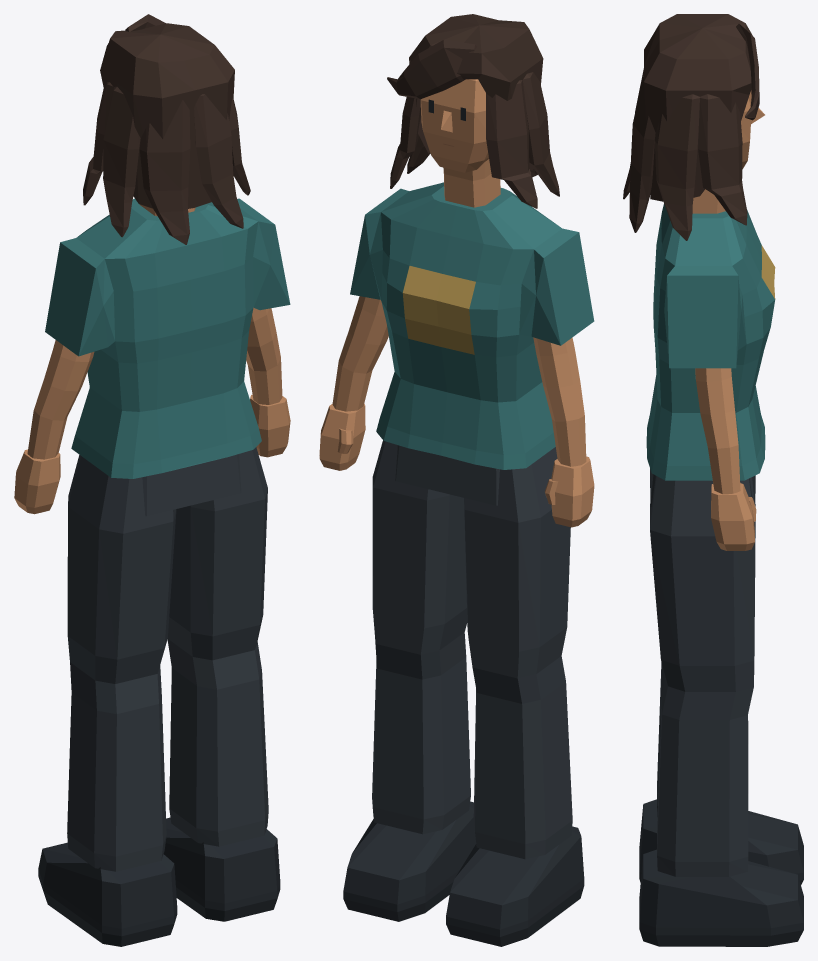
Rendered from lwf_attendee_female_relaxed_v1.glb.
3 renders of one model, left to right at view 1: azimuth 30°, elevation 25°; view 2: azimuth 150°, elevation 25°; view 3: azimuth 270°, elevation 25°, orthographic.
Visible parts, largest first — view 1: Attendee_female_relaxed; view 2: Attendee_female_relaxed; view 3: Attendee_female_relaxed.
Boxes of the visible parts, left/top/right/bottom form: Attendee_female_relaxed: left=14, top=14, right=290, bottom=946; Attendee_female_relaxed: left=319, top=14, right=594, bottom=946; Attendee_female_relaxed: left=623, top=14, right=803, bottom=946.
Bounding box in the file's own units: 0.55 × 1.75 × 0.3289.
Materials: 1 (1 with a texture image).
